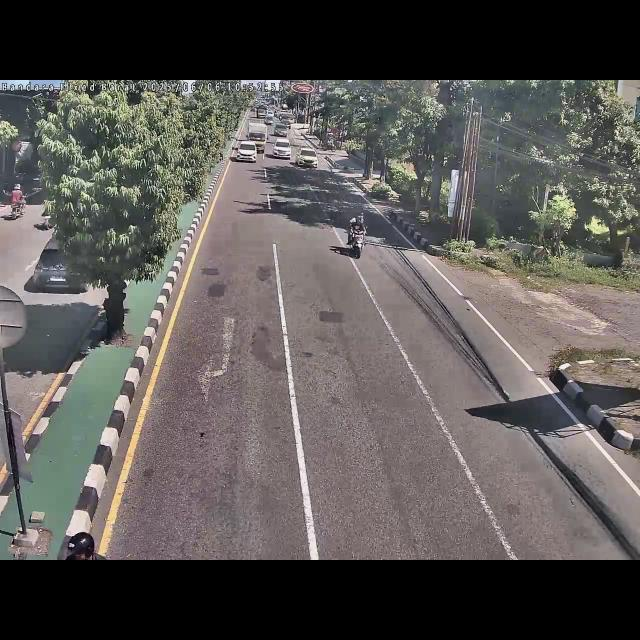Motor: (344, 210, 372, 258)
